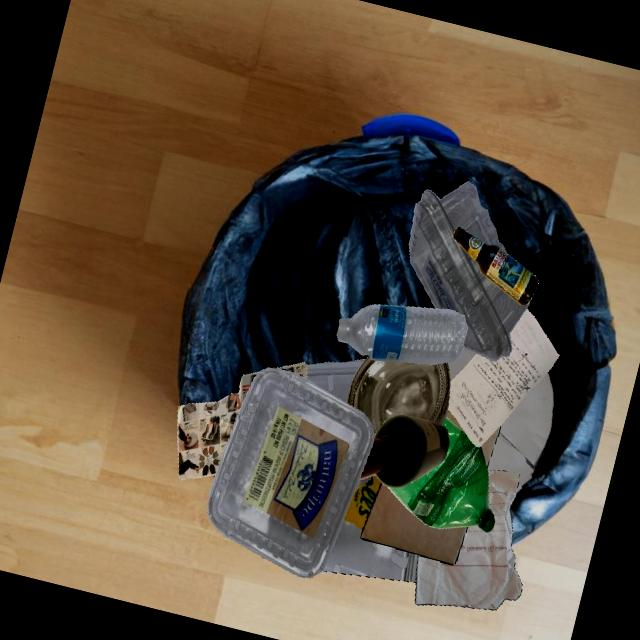glass: (346, 355, 450, 435), (452, 226, 538, 305), (358, 414, 449, 488)
paper: (447, 308, 559, 447), (414, 470, 522, 609), (177, 371, 260, 480), (359, 482, 456, 565), (493, 372, 553, 490), (448, 418, 487, 527), (449, 381, 493, 457)
plastic: (207, 366, 374, 577), (408, 181, 529, 361), (267, 428, 364, 561), (386, 416, 494, 532), (336, 304, 467, 364), (355, 476, 371, 487), (353, 485, 360, 494)
